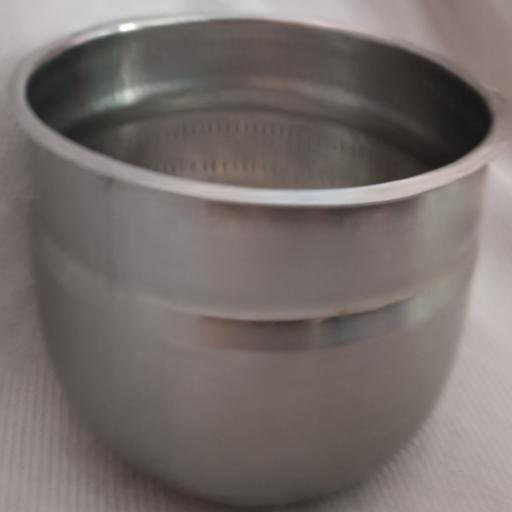vessel: (11, 17, 508, 506)
